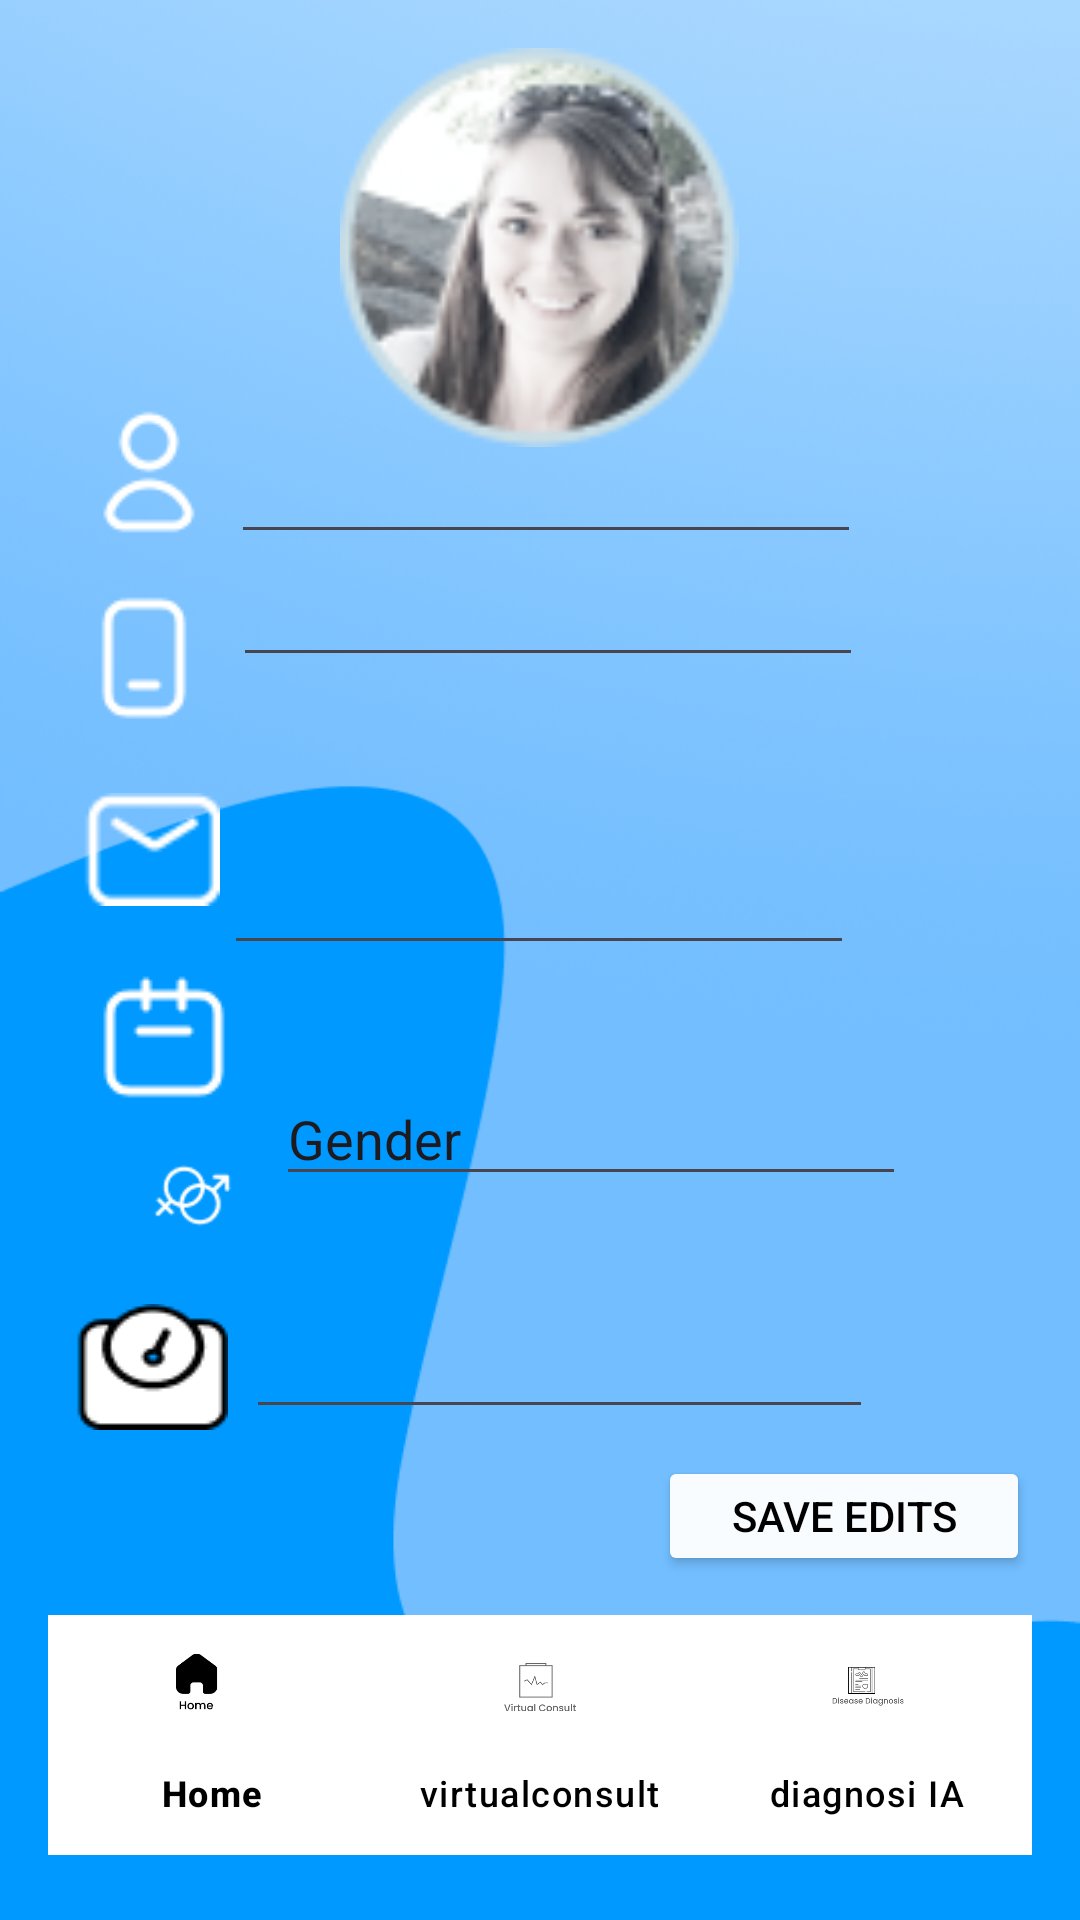

Point at icon controls on the screen. Image size 1080×1920, points as (x,y).
age: (164,1037)
email: (151,849)
nam: (149,472)
number: (144,658)
weight: (152,1367)
